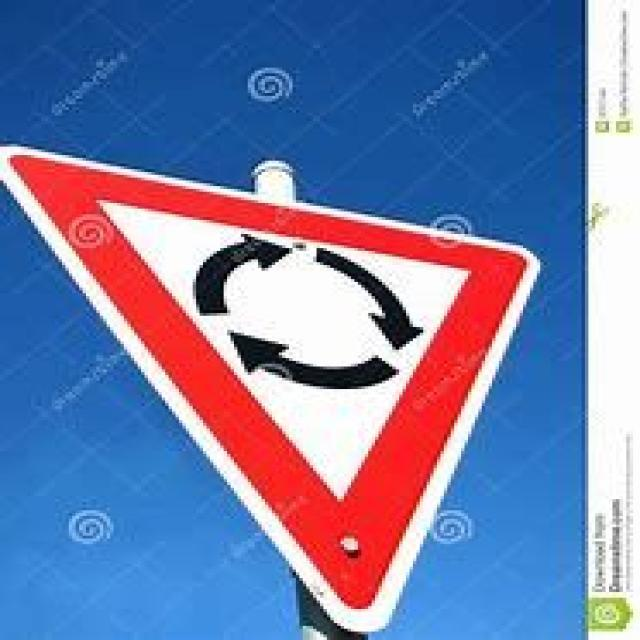roundabout: (11, 150, 533, 617)
